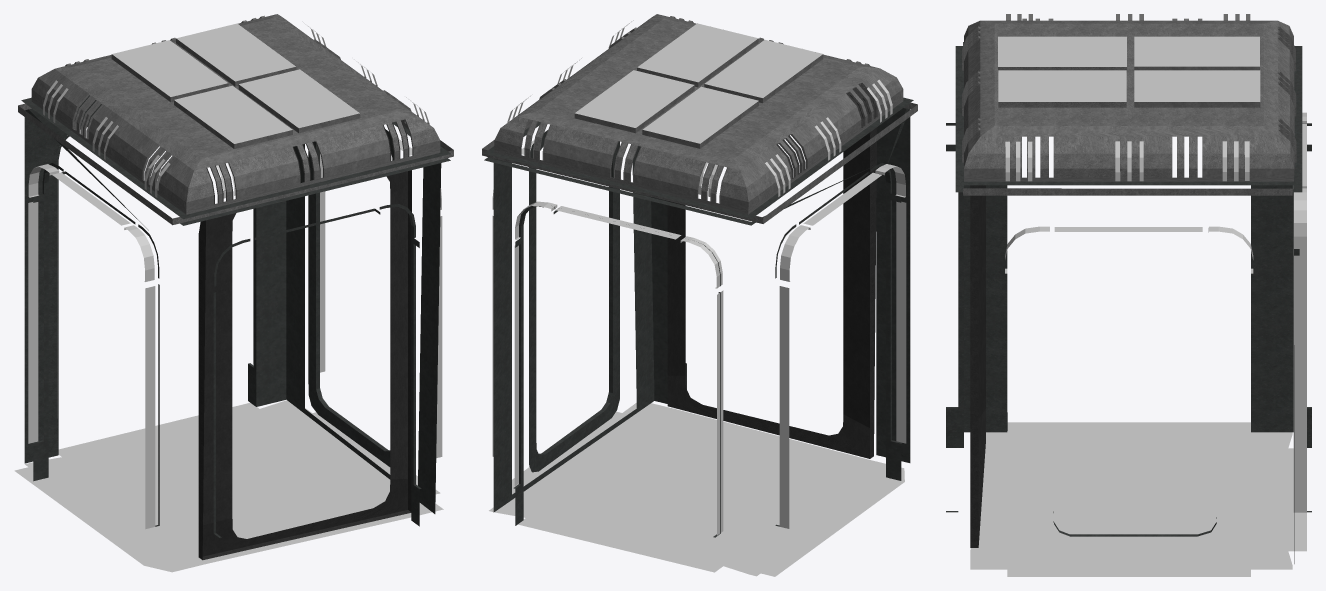
Rendered from ThreeWayDoorIntersection.fbx.
3 renders of one model, left to right at view 1: azimuth 30°, elevation 25°; view 2: azimuth 150°, elevation 25°; view 3: azimuth 270°, elevation 25°, orthographic. The views are drawn at different scales.
Parts seen in each view (by area): view 1: Cube.019, Cube.025, Cube.008, Cube.007, Cube.026; view 2: Cube.019, Cube.025, Cube.008, Cube.007, Cube.026; view 3: Cube.019, Cube.025, Cube.008, Cube.007, Cube.026.
Boxes of the visible parts, left/top/right/bottom form: Cube.019: left=21, top=14, right=450, bottom=537; Cube.025: left=14, top=400, right=443, bottom=572; Cube.008: left=28, top=21, right=442, bottom=529; Cube.007: left=198, top=170, right=411, bottom=560; Cube.026: left=18, top=103, right=453, bottom=225; Cube.019: left=484, top=14, right=913, bottom=537; Cube.025: left=489, top=403, right=904, bottom=576; Cube.008: left=492, top=20, right=906, bottom=535; Cube.007: left=667, top=98, right=877, bottom=458; Cube.026: left=482, top=89, right=917, bottom=223; Cube.019: left=946, top=18, right=1311, bottom=563; Cube.025: left=970, top=422, right=1306, bottom=576; Cube.008: left=998, top=14, right=1306, bottom=512; Cube.007: left=970, top=185, right=985, bottom=547; Cube.026: left=963, top=42, right=1292, bottom=195.
Size of the model in its own units: 767 by 996 by 767.
